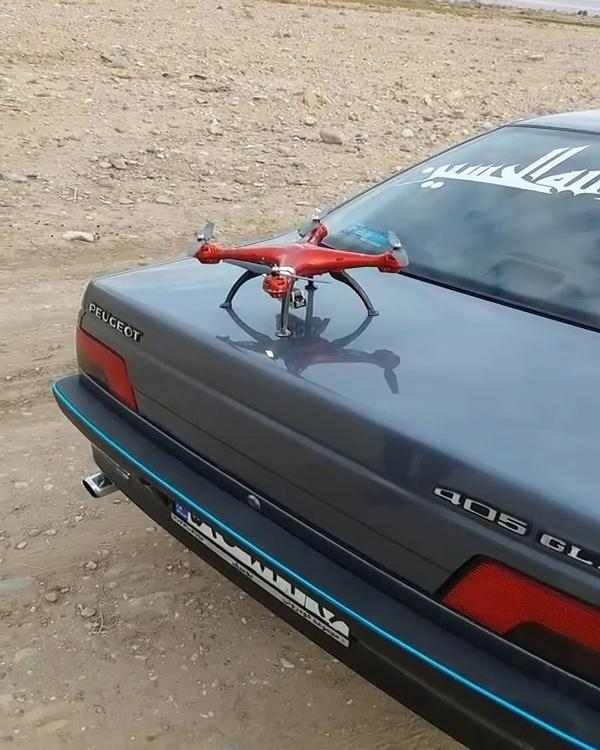drone: (181, 212, 409, 336)
